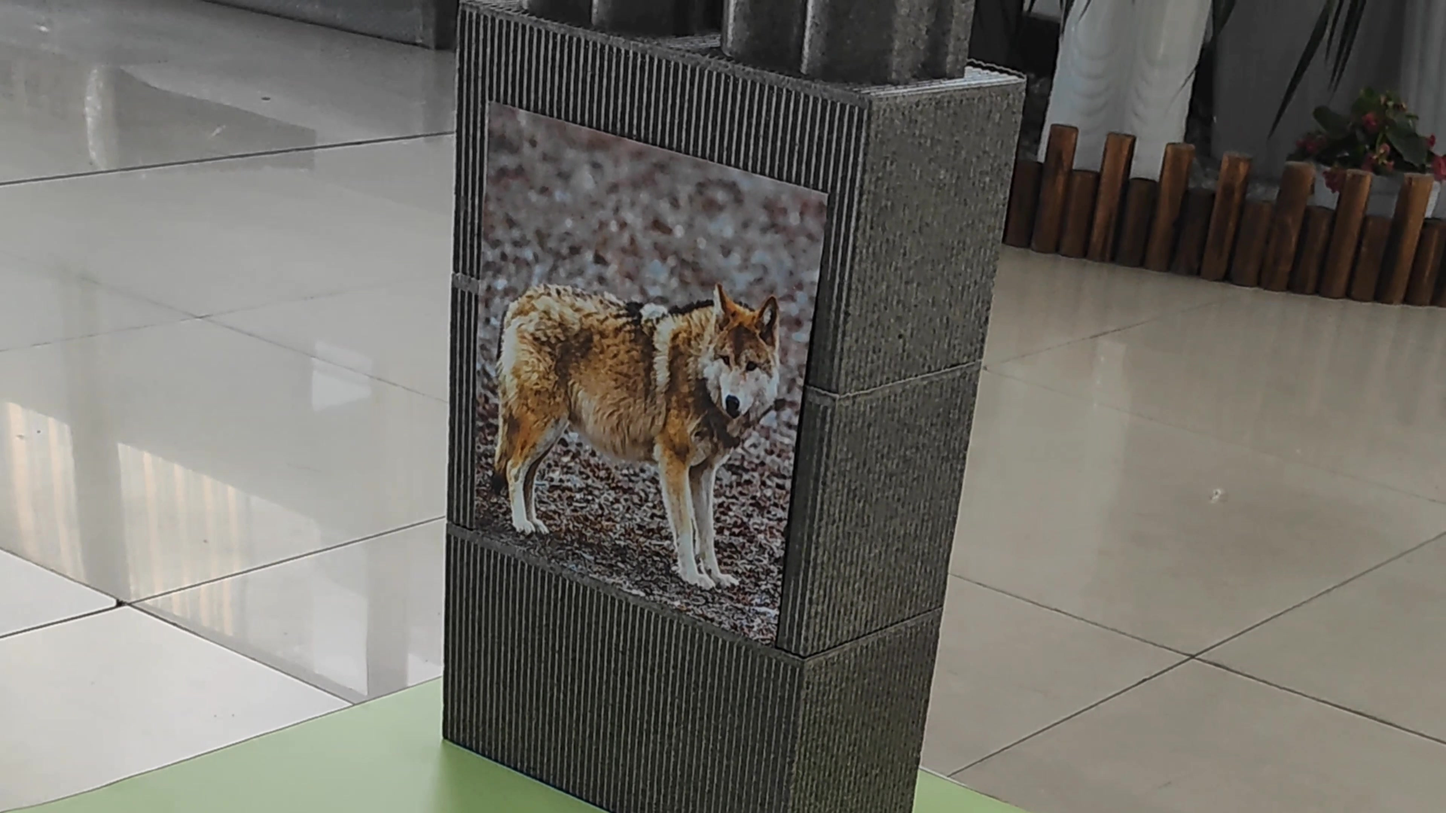wolf: (473, 240, 781, 602)
